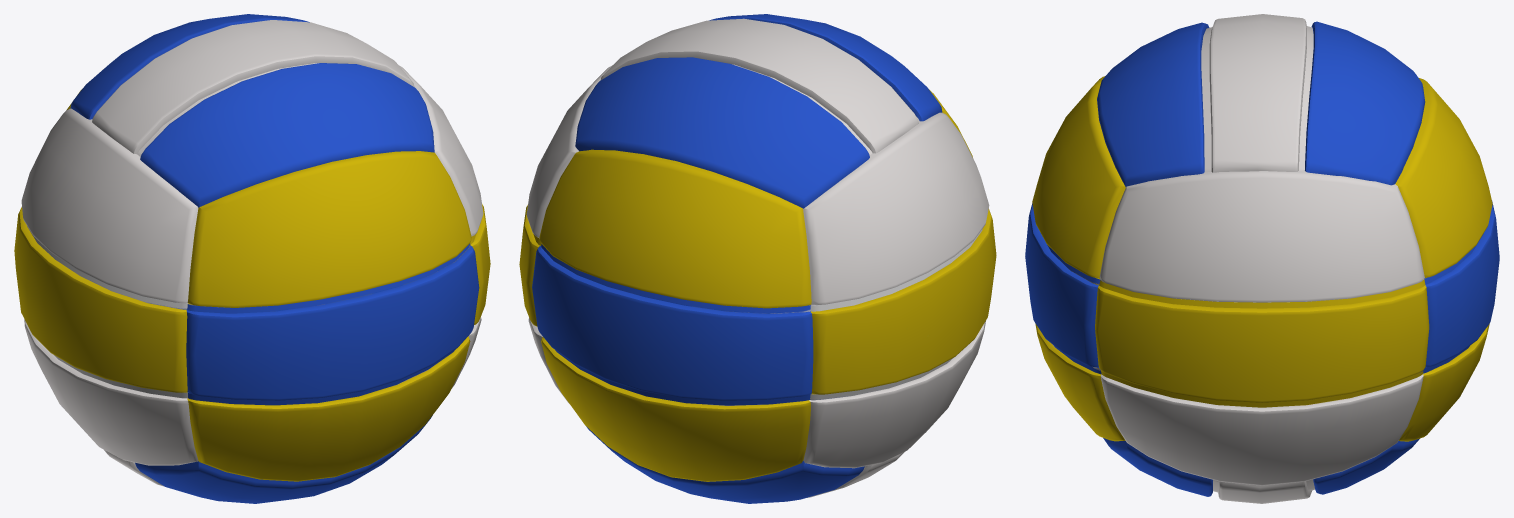
Rendered from volleyball-threejs.glb.
3 views of the same model, side by side, from view 1: azimuth 30°, elevation 25°; view 2: azimuth 150°, elevation 25°; view 3: azimuth 270°, elevation 25° (orthographic).
Parts seen in each view (by area): view 1: volleyball-threejs; view 2: volleyball-threejs; view 3: volleyball-threejs.
Part boxes in pixels (x1,y1,x2,y2): volleyball-threejs: (14, 14, 490, 503); volleyball-threejs: (519, 14, 996, 503); volleyball-threejs: (1025, 14, 1499, 503).
Size of the model in its own units: 0.2224 by 0.2303 by 0.2236.
1 material, 1 textured.
